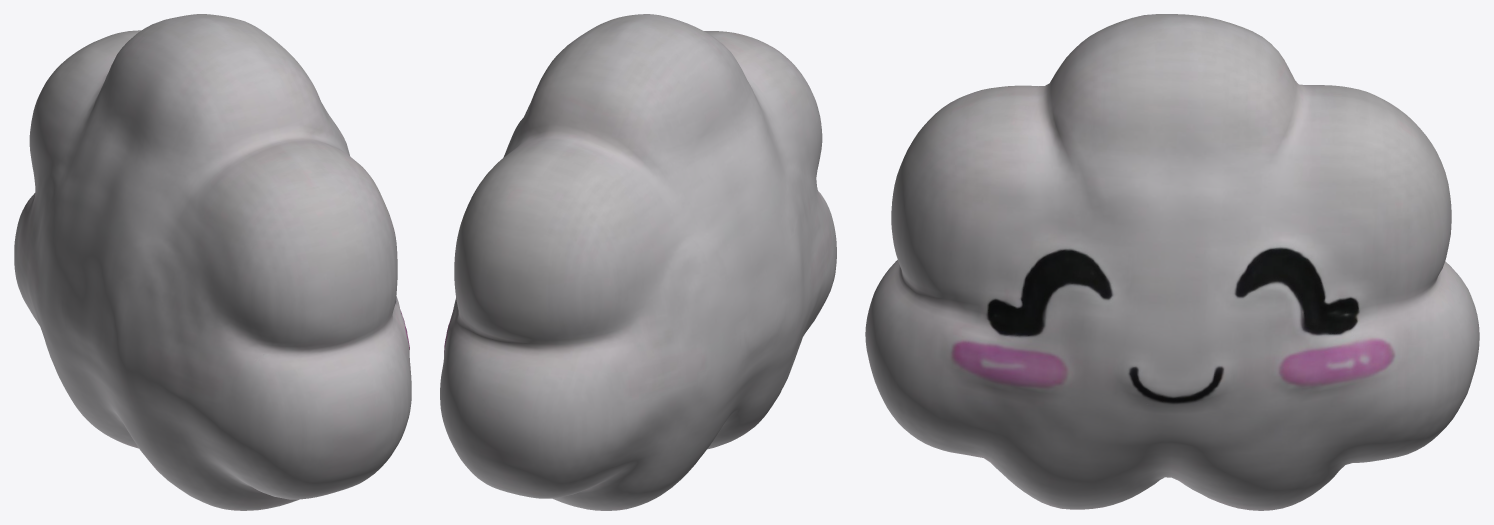
Rendered from cute_cloud.glb.
The picture shows the model from 3 angles, left to right: view 1: azimuth 30°, elevation 25°; view 2: azimuth 150°, elevation 25°; view 3: azimuth 270°, elevation 25°; orthographic projection. The views are drawn at different scales.
Visible parts, largest first — view 1: mesh_base_material_0; view 2: mesh_base_material_0; view 3: mesh_base_material_0.
Boxes of the visible parts, x1=… form: mesh_base_material_0: x1=14, y1=14, x2=411, y2=510; mesh_base_material_0: x1=440, y1=14, x2=836, y2=510; mesh_base_material_0: x1=865, y1=14, x2=1479, y2=510.
Size of the model in its own units: 0.5332 by 0.8536 by 0.9998.
1 material, 1 textured.
